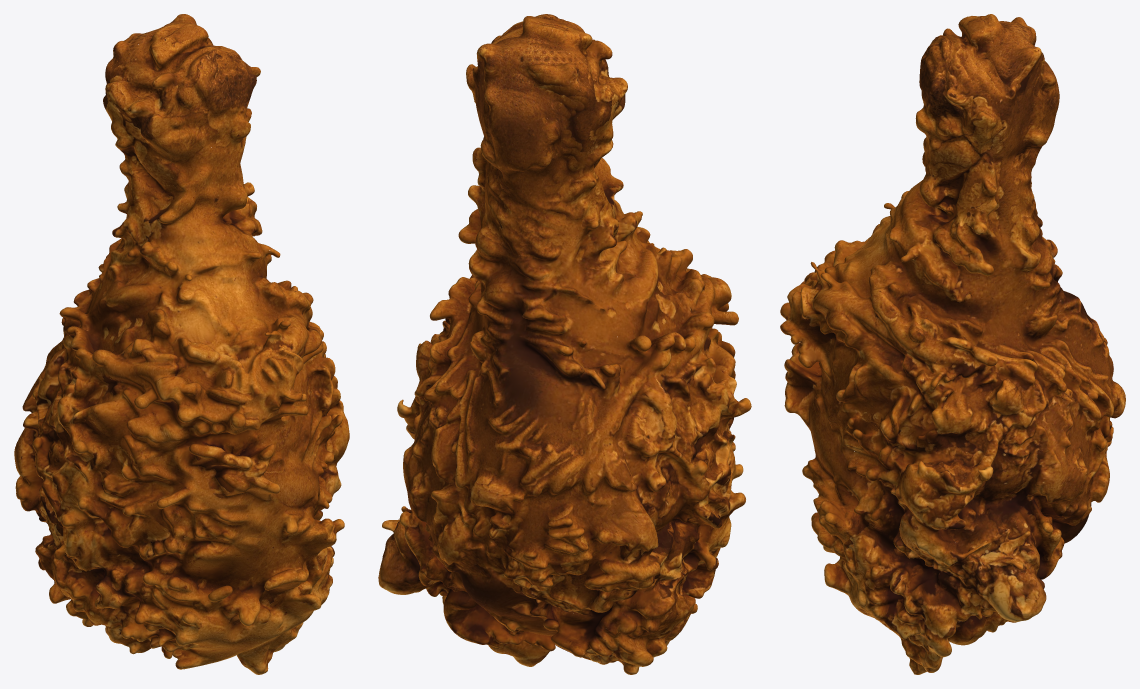
Rendered from drumstick-lite.glb.
3 renders of one model, left to right at view 1: azimuth 30°, elevation 25°; view 2: azimuth 150°, elevation 25°; view 3: azimuth 270°, elevation 25°, orthographic. The views are drawn at different scales.
Parts seen in each view (by area): view 1: Object_5; view 2: Object_5; view 3: Object_5.
Part boxes in pixels (x1,y1,x2,y2): Object_5: [14, 14, 349, 674]; Object_5: [378, 14, 751, 674]; Object_5: [780, 14, 1125, 674].
Bounding box in the file's own units: 0.5383 × 1.12 × 0.5586.
Materials: 1 (1 with a texture image).
